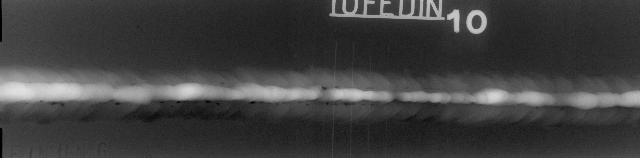FF: (408, 101, 638, 132), (246, 98, 318, 110), (160, 76, 230, 88), (323, 98, 407, 108), (316, 82, 376, 92), (154, 98, 223, 106), (396, 82, 446, 92), (25, 99, 71, 107), (100, 98, 134, 108), (110, 78, 142, 88)
PE: (0, 78, 94, 108)
PO: (170, 104, 174, 109)
